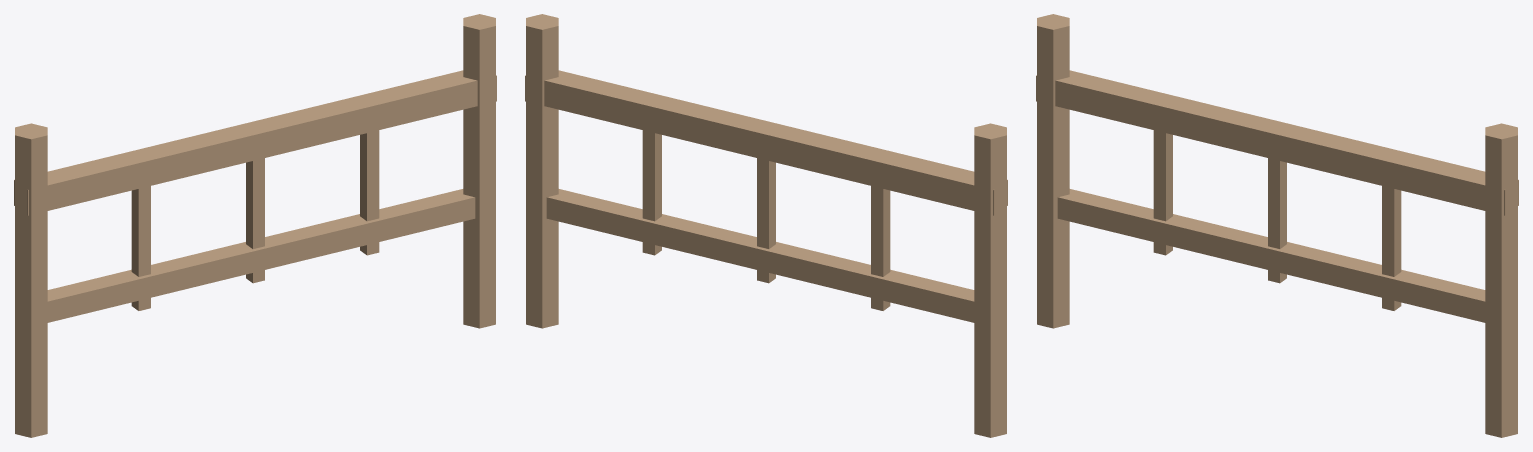
File: SM_Garden_Fence_Seg.fbx
The picture shows the model from 3 angles, left to right: view 1: azimuth 30°, elevation 25°; view 2: azimuth 150°, elevation 25°; view 3: azimuth 330°, elevation 25°; orthographic projection.
Visible parts, largest first — view 1: SM_Garden_Fence_Seg; view 2: SM_Garden_Fence_Seg; view 3: SM_Garden_Fence_Seg.
Part boxes in pixels (x1=…): SM_Garden_Fence_Seg: x1=14, y1=14, x2=496, y2=437; SM_Garden_Fence_Seg: x1=525, y1=14, x2=1007, y2=437; SM_Garden_Fence_Seg: x1=1036, y1=14, x2=1518, y2=437.
Bounding box in the file's own units: 0.0693 × 1.18 × 0.7.
